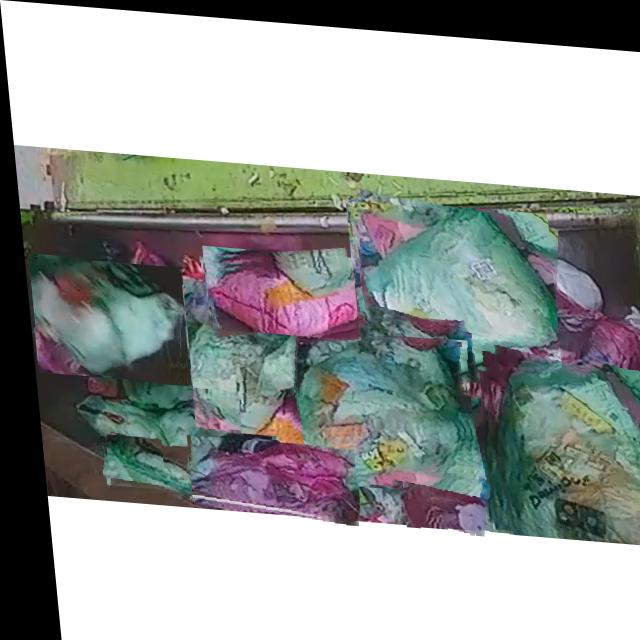general_trashbag: (353, 203, 552, 373), (272, 329, 460, 481), (487, 358, 640, 536), (25, 259, 175, 374), (183, 286, 290, 430), (152, 388, 232, 468), (97, 435, 188, 495), (69, 395, 164, 448)
other_trashbag: (182, 438, 348, 518), (202, 256, 352, 332), (579, 306, 640, 402), (394, 466, 478, 528)
